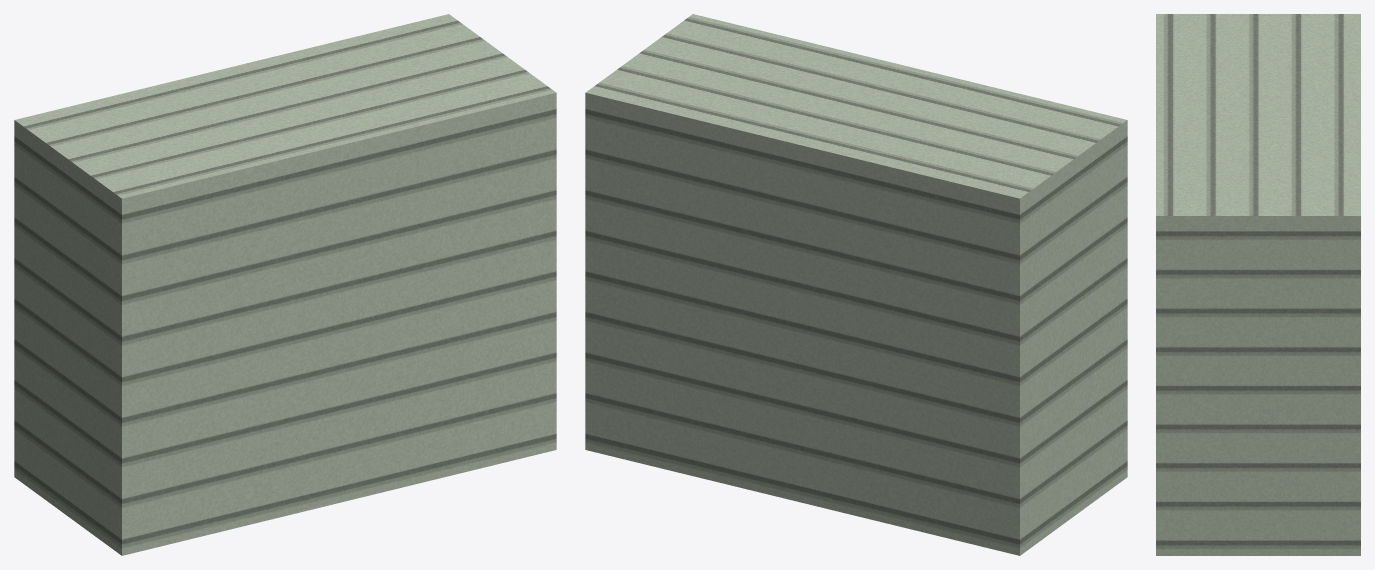
Rendered from police_dispatch_console.glb.
3 renders of one model, left to right at view 1: azimuth 30°, elevation 25°; view 2: azimuth 150°, elevation 25°; view 3: azimuth 270°, elevation 25°, orthographic. The views are drawn at different scales.
Visible parts, largest first — view 1: police_dispatch_console-col; view 2: police_dispatch_console-col; view 3: police_dispatch_console-col.
Part boxes in pixels (left/top/right/bottom): police_dispatch_console-col: left=14, top=14, right=556, bottom=555; police_dispatch_console-col: left=585, top=14, right=1127, bottom=555; police_dispatch_console-col: left=1156, top=14, right=1360, bottom=555.
Bounding box in the file's own units: 1.4 × 1.1 × 0.6.
1 material, 1 textured.
